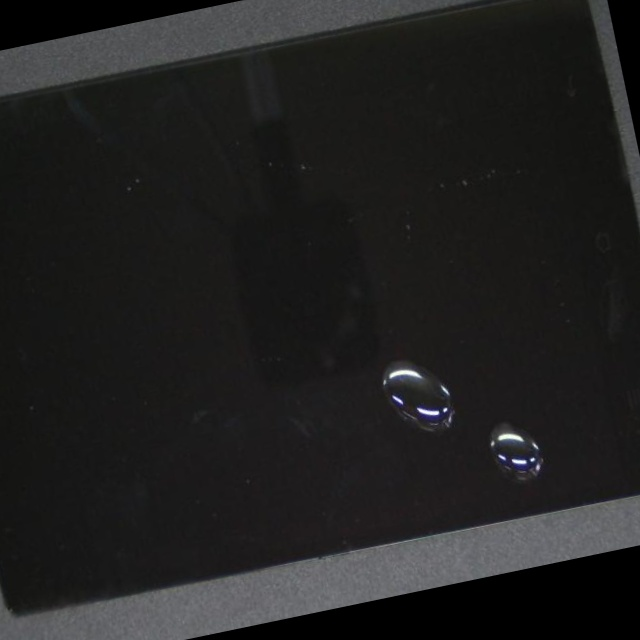oil: (187, 155, 640, 623), (225, 179, 640, 616)
